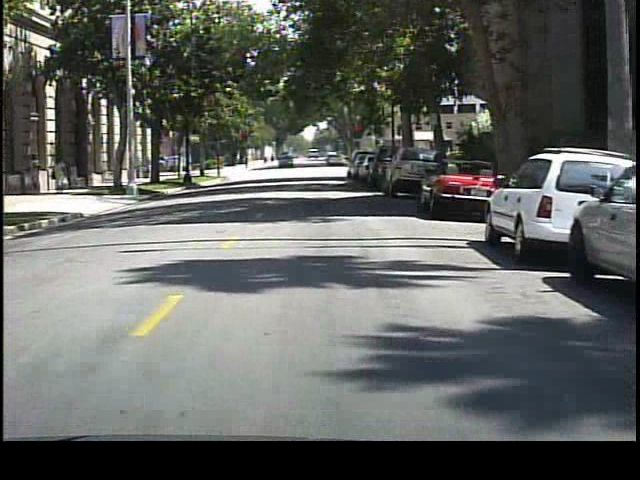person: (46, 152, 71, 194), (28, 149, 48, 192)
